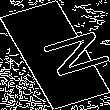N_SW: (12, 27, 98, 83)
